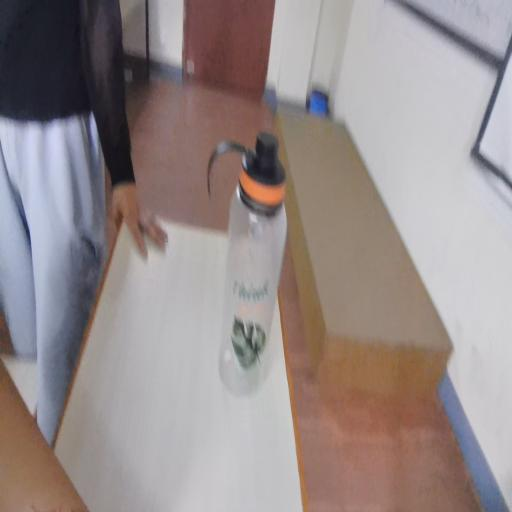Bottle: (225, 145, 305, 405)
